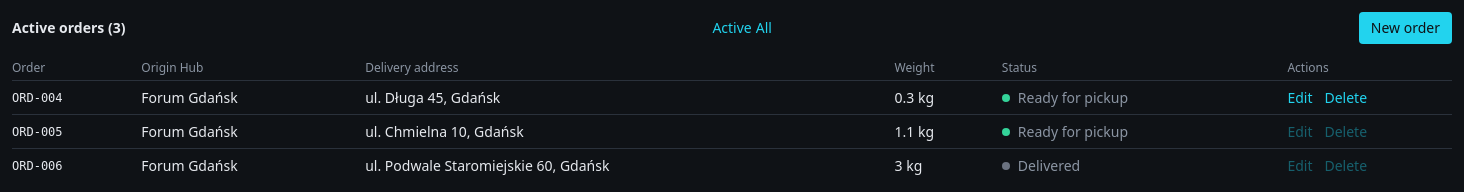
Scenario: OrdersManager › does not show that note for a short history
The image size is (1464, 192).
Click the button "All".
click(764, 28)  # box x1=756 y1=18 x2=772 y2=38
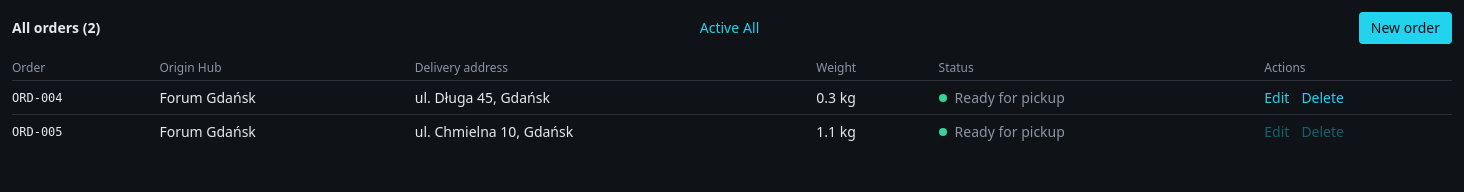
Expected: the heading "All orders (2)" is shown, x1=12 y1=18 x2=100 y2=38
